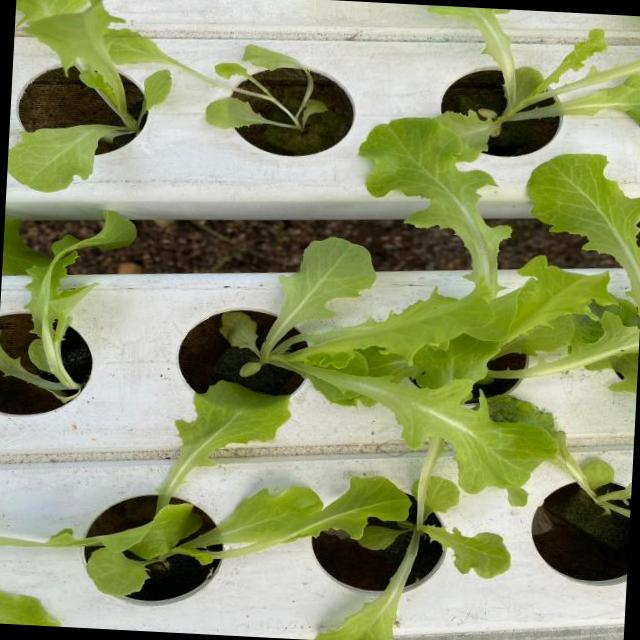Lettuce-Not-Ready-to-Harvest: (55, 378, 408, 624), (208, 234, 546, 476), (281, 417, 531, 640), (419, 5, 640, 163), (6, 0, 177, 198), (0, 209, 139, 418), (105, 32, 338, 142)
